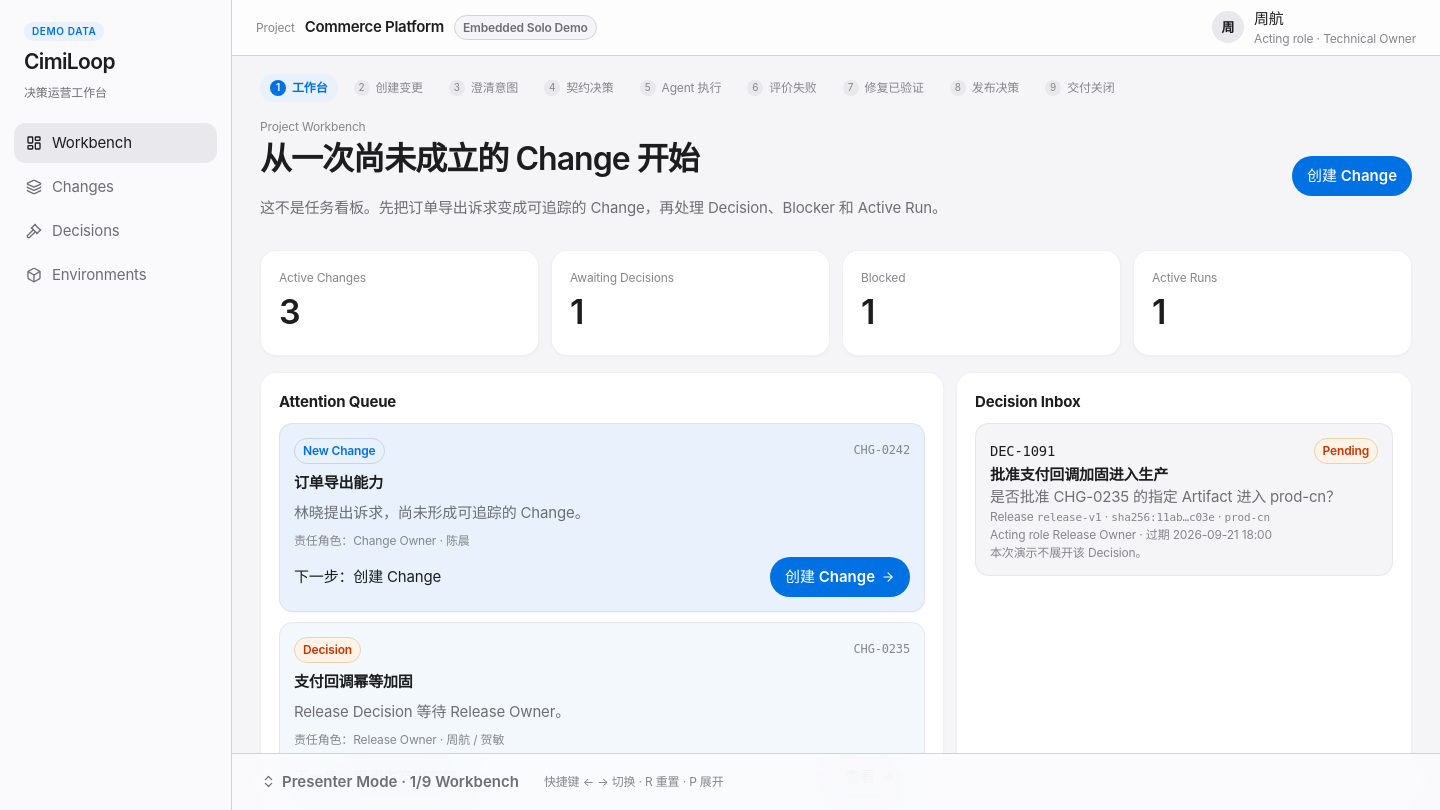
Test: workbench › opens the create form as the first step of the main story
Click the button "创建 Change" in the row of "从一次尚未成立的 Change 开始".
click(1352, 176)  # box [1292, 156, 1412, 196]
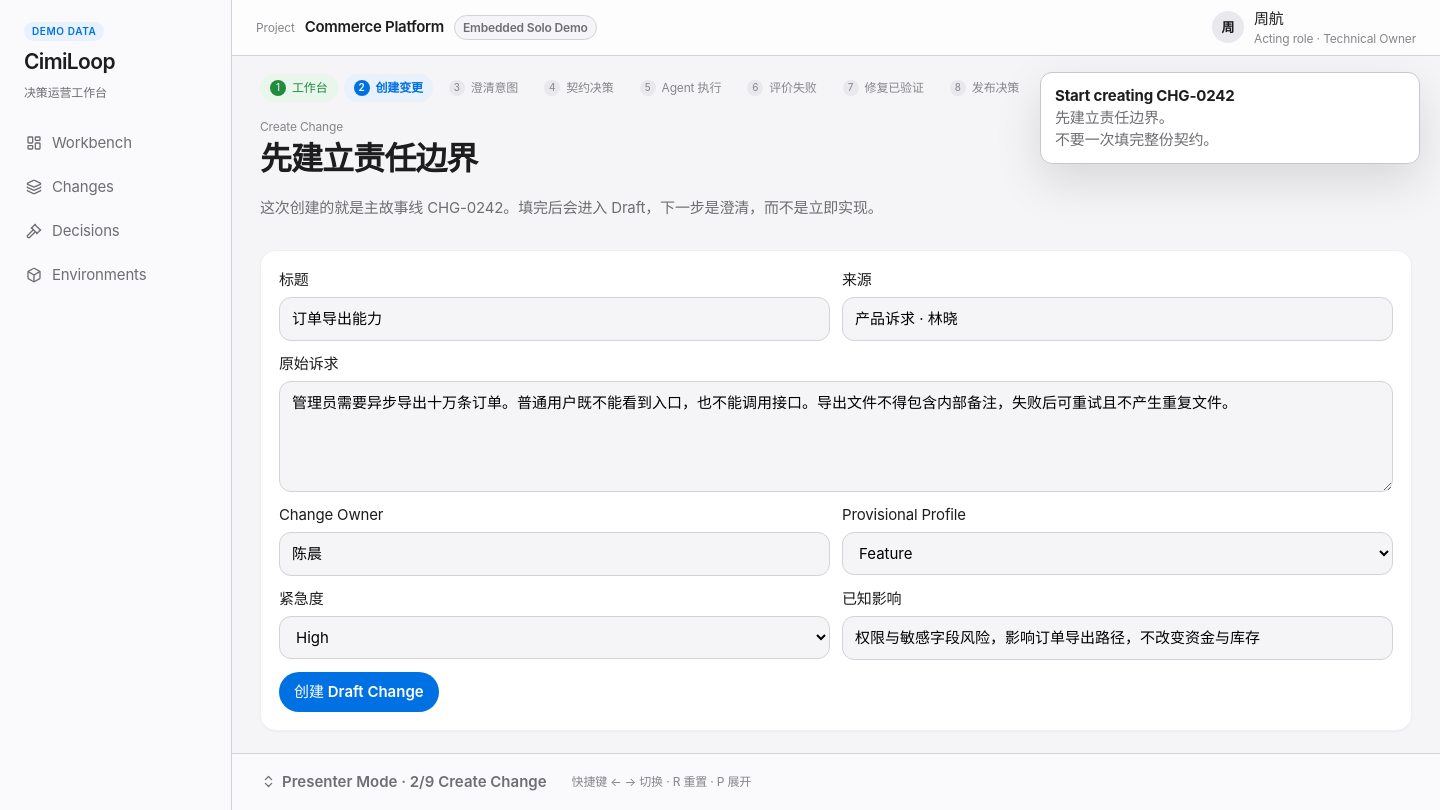
Expected: the field showing "订单导出能力" is shown, [279, 297, 830, 341]
Expected: the element with test id "create-change-page" shows "先建立责任边界", [260, 139, 477, 178]
